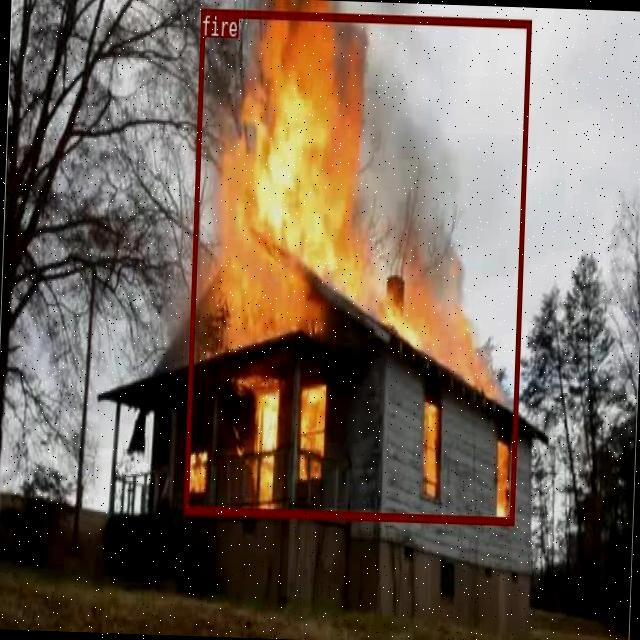fire: (184, 9, 530, 524)
